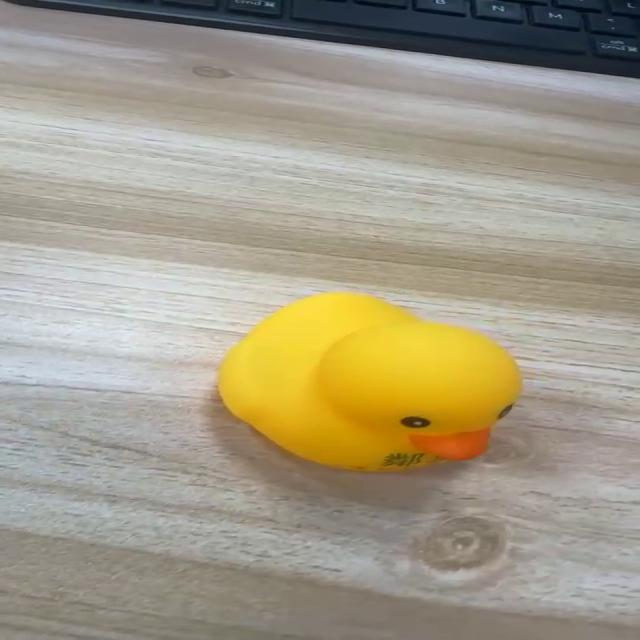yellow_duck: (214, 289, 524, 473)
